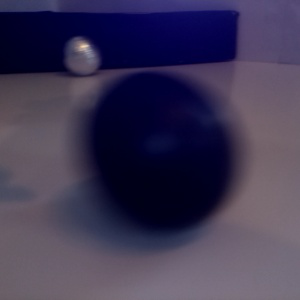zone: (1, 10, 239, 74)
